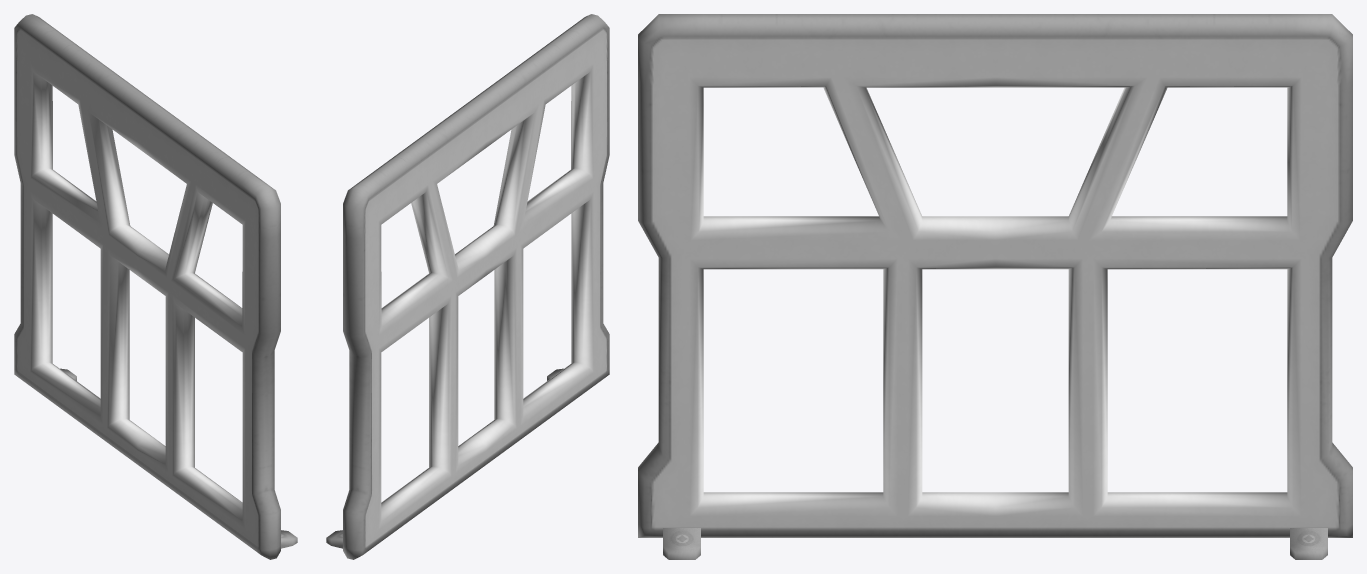
The model's file is SM_MStair01-Parapet-150-2.FBX.
3 renders of one model, left to right at view 1: azimuth 30°, elevation 25°; view 2: azimuth 150°, elevation 25°; view 3: azimuth 270°, elevation 25°, orthographic. The views are drawn at different scales.
Parts seen in each view (by area): view 1: SM_MStair01-Parapet-150-2; view 2: SM_MStair01-Parapet-150-2; view 3: SM_MStair01-Parapet-150-2.
Part boxes in pixels (left/top/right/bottom): SM_MStair01-Parapet-150-2: left=14, top=14, right=297, bottom=559; SM_MStair01-Parapet-150-2: left=326, top=14, right=609, bottom=559; SM_MStair01-Parapet-150-2: left=638, top=14, right=1352, bottom=559.
Size of what is drawn, in the model's own units: 15.46 by 150 by 120.
